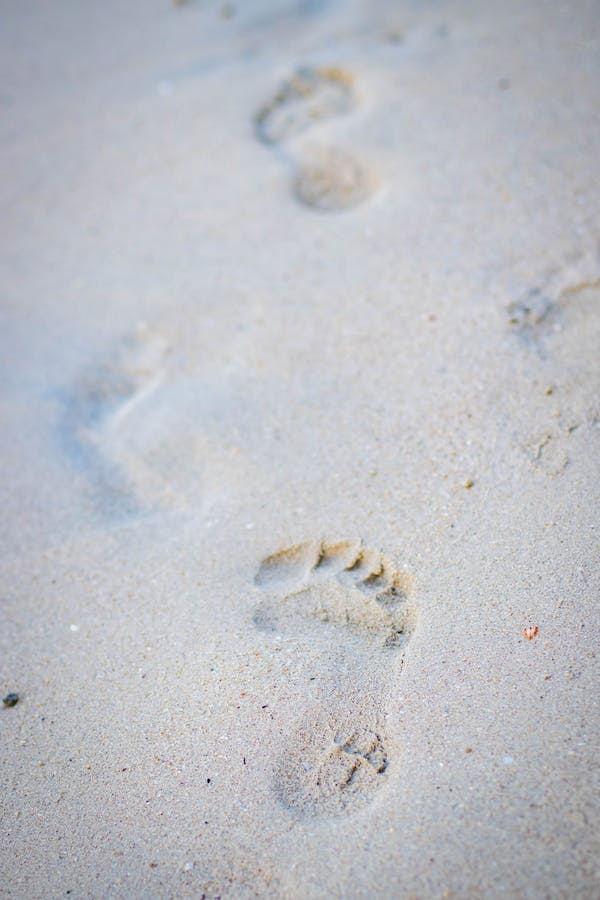human_foot_print: (60, 53, 418, 858)
